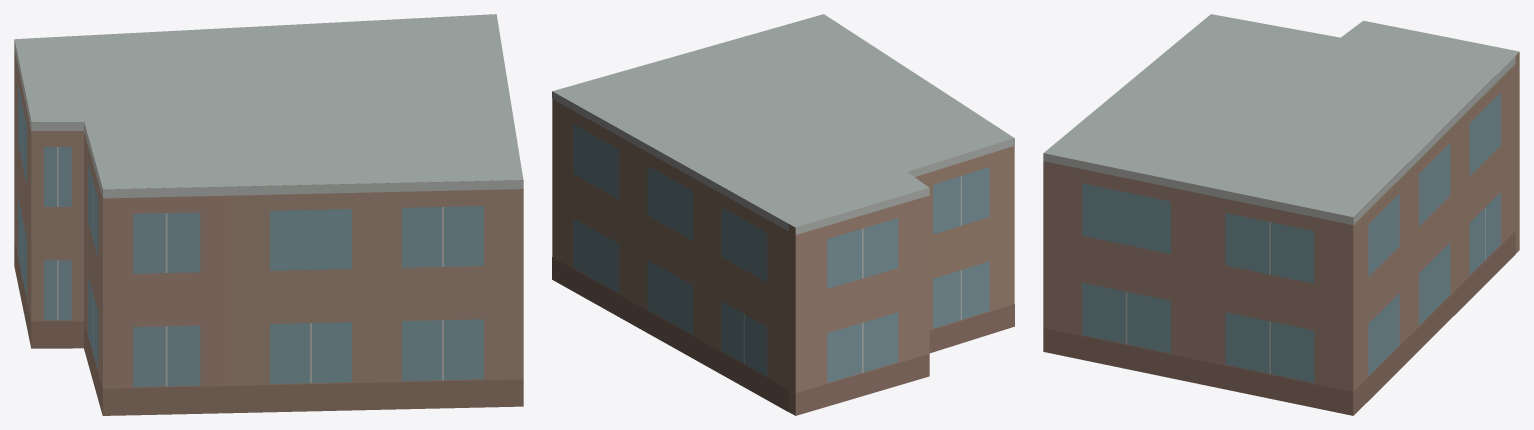
File: survey-upis-32892932.glb
3 views of the same model, side by side, from view 1: azimuth 30°, elevation 25°; view 2: azimuth 150°, elevation 25°; view 3: azimuth 270°, elevation 25° (orthographic). The views are drawn at different scales.
Parts seen in each view (by area): view 1: survey-upis-32892932.tmp; view 2: survey-upis-32892932.tmp; view 3: survey-upis-32892932.tmp.
Part boxes in pixels (x1=…): survey-upis-32892932.tmp: x1=14, y1=14, x2=523, y2=415; survey-upis-32892932.tmp: x1=552, y1=14, x2=1014, y2=415; survey-upis-32892932.tmp: x1=1043, y1=14, x2=1519, y2=415.
Size of the model in its own units: 13.4 by 6.1 by 13.27.
